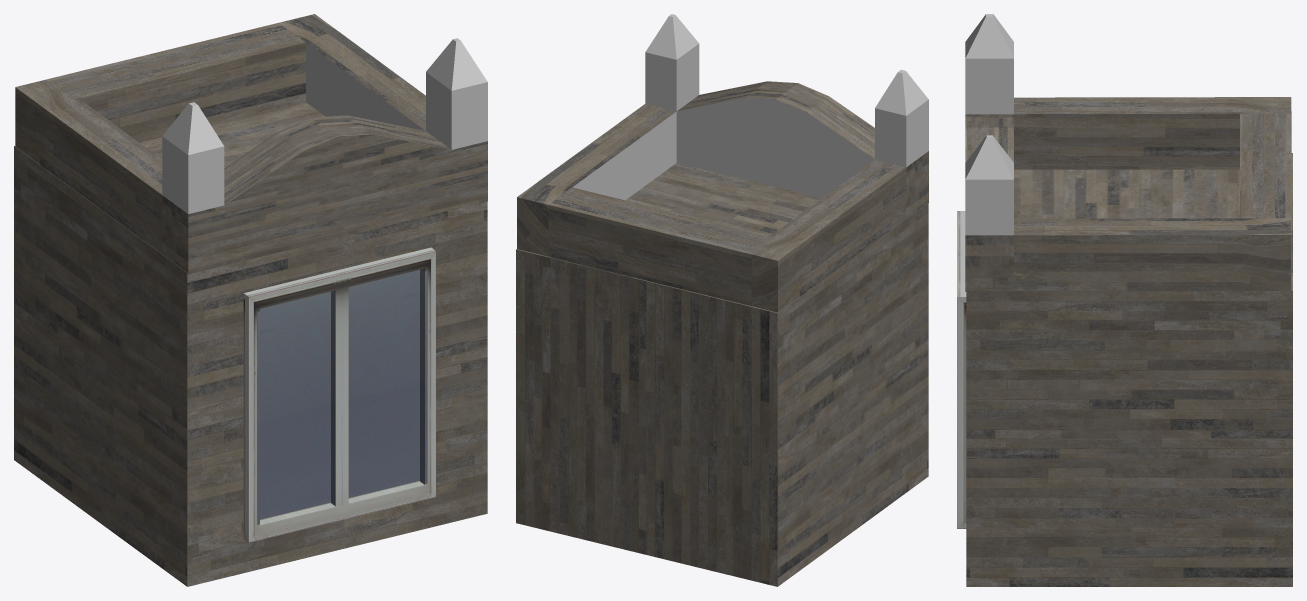
File: Single_topwindow.fbx
The picture shows the model from 3 angles, left to right: view 1: azimuth 30°, elevation 25°; view 2: azimuth 150°, elevation 25°; view 3: azimuth 270°, elevation 25°; orthographic projection. The views are drawn at different scales.
Parts seen in each view (by area): view 1: Cube.022; view 2: Cube.022; view 3: Cube.022.
Boxes of the visible parts, x1,y1,x2,y2 form: Cube.022: [14, 14, 487, 586]; Cube.022: [516, 14, 928, 586]; Cube.022: [957, 14, 1292, 586].
Bounding box in the file's own units: 206 × 299 × 200.
